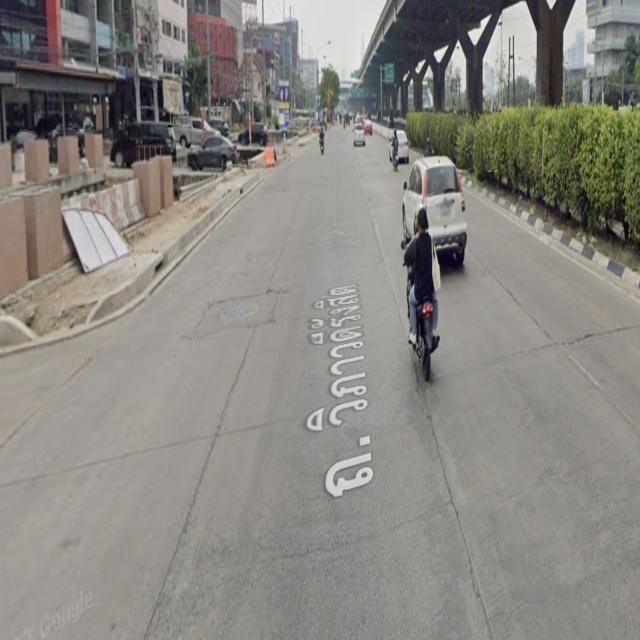fallen_object: (250, 137, 292, 176)
